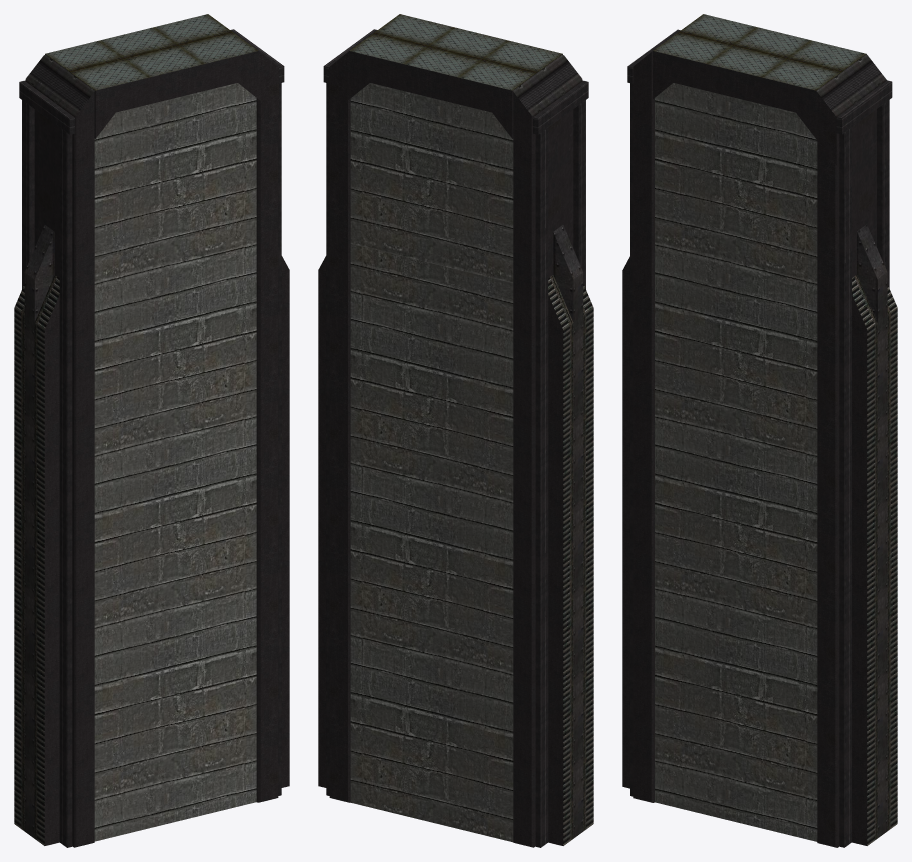
The model's file is bridgewall3frost.fbx.
The picture shows the model from 3 angles, left to right: view 1: azimuth 30°, elevation 25°; view 2: azimuth 150°, elevation 25°; view 3: azimuth 330°, elevation 25°; orthographic projection.
Parts seen in each view (by area): view 1: Object; view 2: Object; view 3: Object.
Boxes of the visible parts, x1=… form: Object: x1=14, y1=14, x2=289, y2=847; Object: x1=318, y1=14, x2=593, y2=847; Object: x1=622, y1=14, x2=897, y2=847.
Bounding box in the file's own units: 2384 × 7003 × 850.
